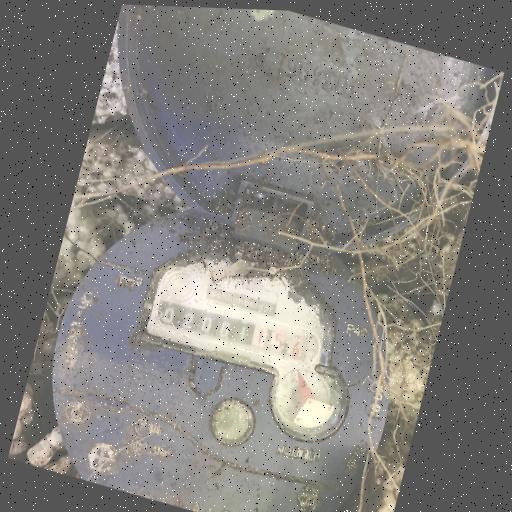0: (161, 300, 180, 327), (199, 310, 217, 336)
1: (251, 324, 269, 349), (236, 320, 254, 344)
2: (179, 305, 199, 332)
5: (270, 329, 288, 355)
6: (289, 334, 309, 360)
8: (216, 315, 235, 341)
border_water_meter_number: (150, 288, 321, 373)
